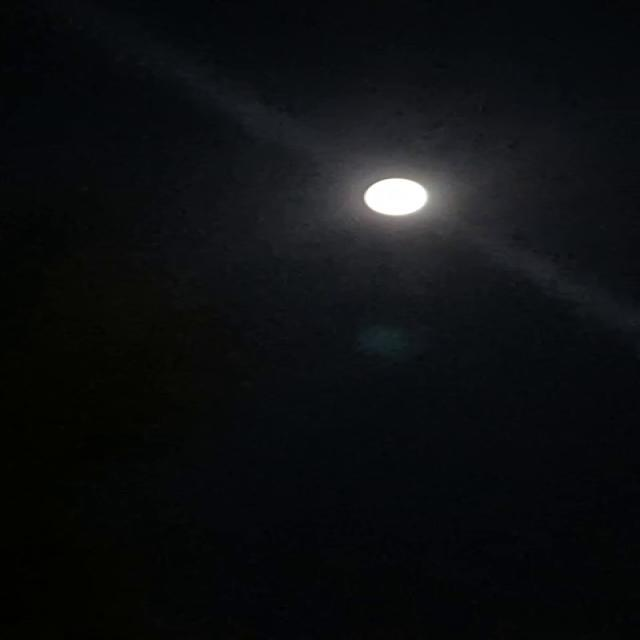moon: (332, 168, 448, 226)
